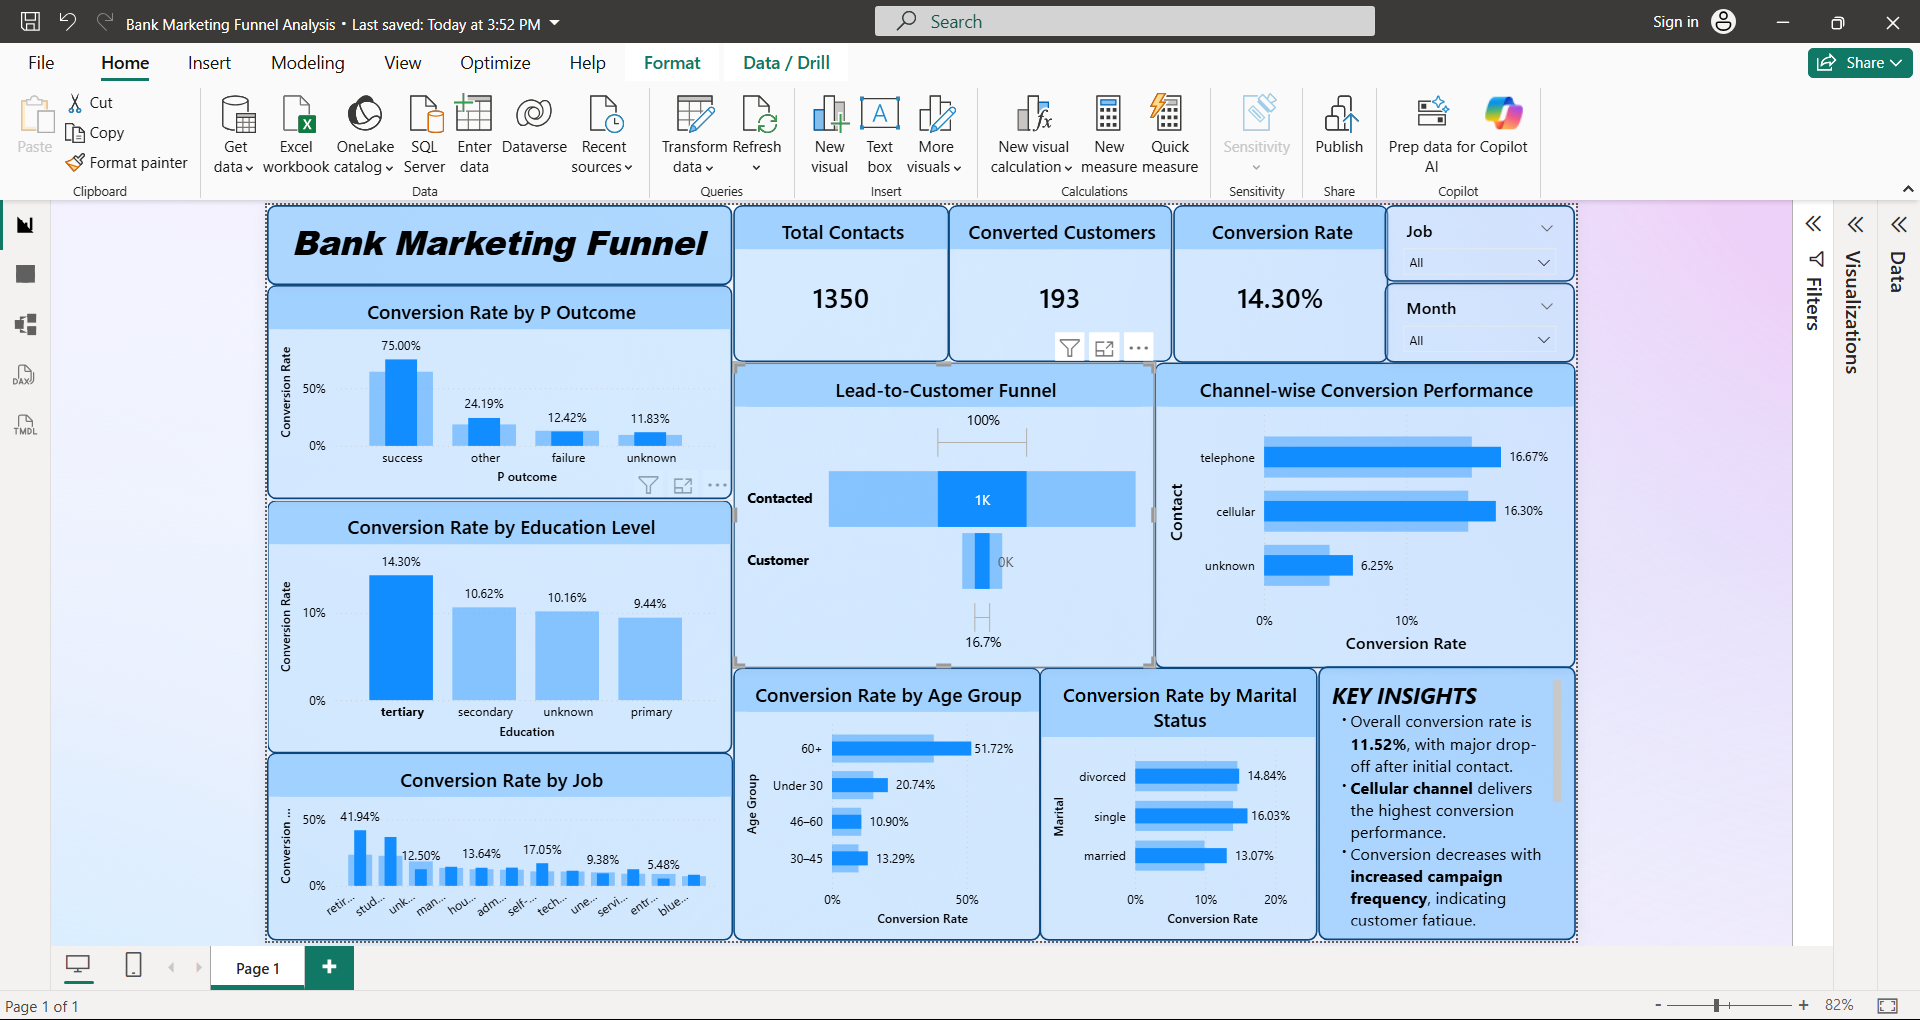

What the dashboard file says about the page in this screenshot:
{"tool":"powerbi","page":{"name":"Page 1","canvas":[1280,720],"ordinal":0},"visuals":[{"type":"card","title":"Total Contacts","fields":{"Values":["Cleaned_Bank_data.Total Contacts"]},"box":[455.6,0,211.3,153.7],"z":0},{"type":"card","title":"Converted Customers","fields":{"Values":["Cleaned_Bank_data.Total Customers"]},"box":[666.9,0,219.6,153.7],"z":1000},{"type":"card","title":"Conversion Rate","fields":{"Values":["Cleaned_Bank_data.Conversion Rate"]},"box":[886.6,0,210.3,154.1],"z":2000},{"type":"funnel","title":"Lead-to-Customer Funnel","fields":{"Y":["Cleaned_Bank_data.Funnel Count"],"Category":["Cleaned_Bank_data.Funnel Stage"]},"box":[455.6,153.7,413,299.1],"z":3000},{"type":"clusteredBarChart","title":"Channel-wise Conversion Performance","fields":{"Category":["Cleaned_Bank_data.Contact"],"Y":["Cleaned_Bank_data.Conversion Rate"]},"box":[868.6,153.7,411.7,299.1],"z":4000},{"type":"slicer","fields":{"Values":["Cleaned_Bank_data.Month"]},"box":[1093.7,75.5,186.6,78.2],"z":5000},{"type":"slicer","fields":{"Values":["Cleaned_Bank_data.Job"]},"box":[1093.7,0,186.6,75.5],"z":6000},{"type":"clusteredBarChart","title":"Conversion Rate by Marital Status","fields":{"Category":["Cleaned_Bank_data.Marital"],"Y":["Cleaned_Bank_data.Conversion Rate"]},"box":[756.1,452.8,271.7,267.6],"z":7000},{"type":"clusteredColumnChart","title":"Conversion Rate by Education Level","fields":{"Category":["Cleaned_Bank_data.Education"],"Y":["Cleaned_Bank_data.Conversion Rate"]},"box":[0,288.2,455.6,248.4],"z":8000},{"type":"clusteredBarChart","fields":{"Category":["Cleaned_Bank_data.Age Group"],"Y":["Cleaned_Bank_data.Conversion Rate"]},"box":[455.6,452.8,300.5,267.6],"z":9000},{"type":"clusteredColumnChart","title":"Conversion Rate by P Outcome","fields":{"Y":["Cleaned_Bank_data.Conversion Rate"],"Category":["Cleaned_Bank_data.P out Come"]},"box":[0,78.2,455.6,209.9],"z":10000},{"type":"textbox","title":"Bank Marketing Funnel","box":[0,0,455.6,78.2],"z":11000},{"type":"clusteredColumnChart","fields":{"Category":["Cleaned_Bank_data.Job"],"Y":["Cleaned_Bank_data.Conversion Rate"]},"box":[0,536,456,184],"z":12000},{"type":"textbox","box":[1028.4,451.2,251.9,267.8],"z":13000}]}

Visuals, with their boxes on the page's 1280x720 design canvas (x1, y1, x2, y2). These are canvas units, not pixel positions in the 1920x1020 screenshot, which may show the page scaled, cropped or inside an application window:
"Total Contacts" card: select_region(456, 0, 667, 154)
"Converted Customers" card: select_region(667, 0, 886, 154)
"Conversion Rate" card: select_region(887, 0, 1097, 154)
"Lead-to-Customer Funnel" funnel: select_region(456, 154, 869, 453)
"Channel-wise Conversion Performance" clusteredBarChart: select_region(869, 154, 1280, 453)
slicer - Cleaned_Bank_data.Month: select_region(1094, 76, 1280, 154)
slicer - Cleaned_Bank_data.Job: select_region(1094, 0, 1280, 76)
"Conversion Rate by Marital Status" clusteredBarChart: select_region(756, 453, 1028, 720)
"Conversion Rate by Education Level" clusteredColumnChart: select_region(0, 288, 456, 537)
clusteredBarChart - Cleaned_Bank_data.Age Group x Cleaned_Bank_data.Conversion Rate: select_region(456, 453, 756, 720)
"Conversion Rate by P Outcome" clusteredColumnChart: select_region(0, 78, 456, 288)
"Bank Marketing Funnel" textbox: select_region(0, 0, 456, 78)
clusteredColumnChart - Cleaned_Bank_data.Job x Cleaned_Bank_data.Conversion Rate: select_region(0, 536, 456, 720)
textbox: select_region(1028, 451, 1280, 719)
